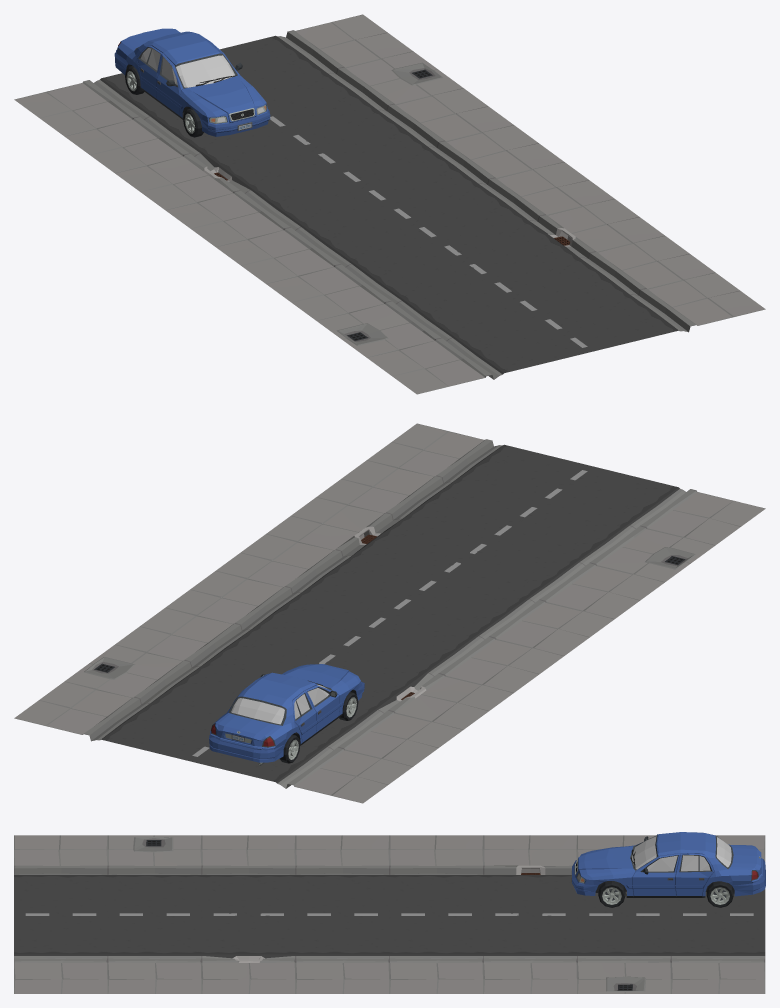
File: trafficTown.glb
3 renders of one model, top to bottom at view 1: azimuth 30°, elevation 25°; view 2: azimuth 150°, elevation 25°; view 3: azimuth 270°, elevation 25°, orthographic. The views are drawn at different scales.
Parts seen in each view (by area): view 1: Road, Car, SM_Veh_Car_Sedan_Glass.002; view 2: Road, Car, SM_Veh_Car_Sedan_Glass.002; view 3: Road, Car, SM_Veh_Car_Sedan_Glass.002, Wheel_fl.009, Wheel_rl.009.
Boxes of the visible parts, box(x1,y1,x2,y2) form: Road: box(14, 14, 765, 394); Car: box(114, 28, 270, 136); SM_Veh_Car_Sedan_Glass.002: box(140, 48, 234, 87); Road: box(14, 423, 765, 803); Car: box(209, 664, 364, 765); SM_Veh_Car_Sedan_Glass.002: box(231, 684, 328, 724); Road: box(14, 835, 765, 993); Car: box(572, 832, 765, 897); SM_Veh_Car_Sedan_Glass.002: box(632, 836, 731, 871); Wheel_fl.009: box(598, 881, 625, 907); Wheel_rl.009: box(706, 881, 733, 907).
Size of the model in its own units: 20 by 4.2 by 40.04.
Materials: 3 (2 with a texture image).
